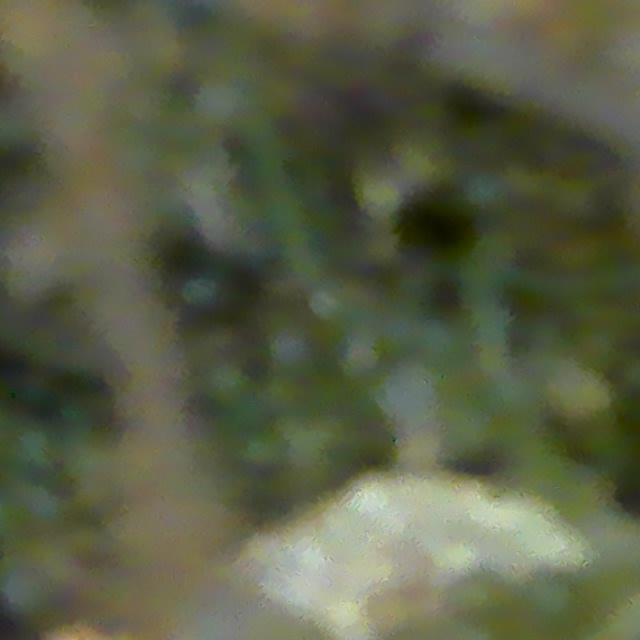SeaGrape: (372, 359, 448, 433), (516, 568, 582, 633), (264, 318, 319, 379), (3, 423, 60, 481), (9, 478, 66, 535)
